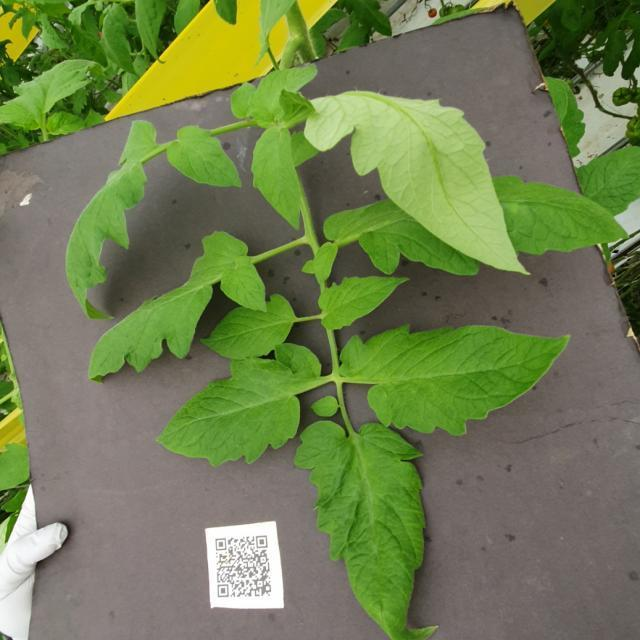Healthy: (290, 419, 437, 640), (83, 231, 268, 382), (338, 324, 572, 436), (155, 342, 322, 467), (64, 121, 163, 322), (198, 293, 296, 361), (251, 127, 302, 230), (319, 275, 412, 331), (167, 124, 242, 188)
